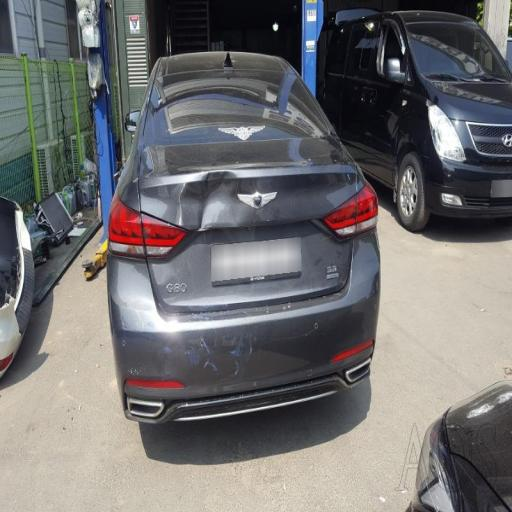dent: (173, 146, 263, 244)
scratch: (141, 292, 319, 421)
